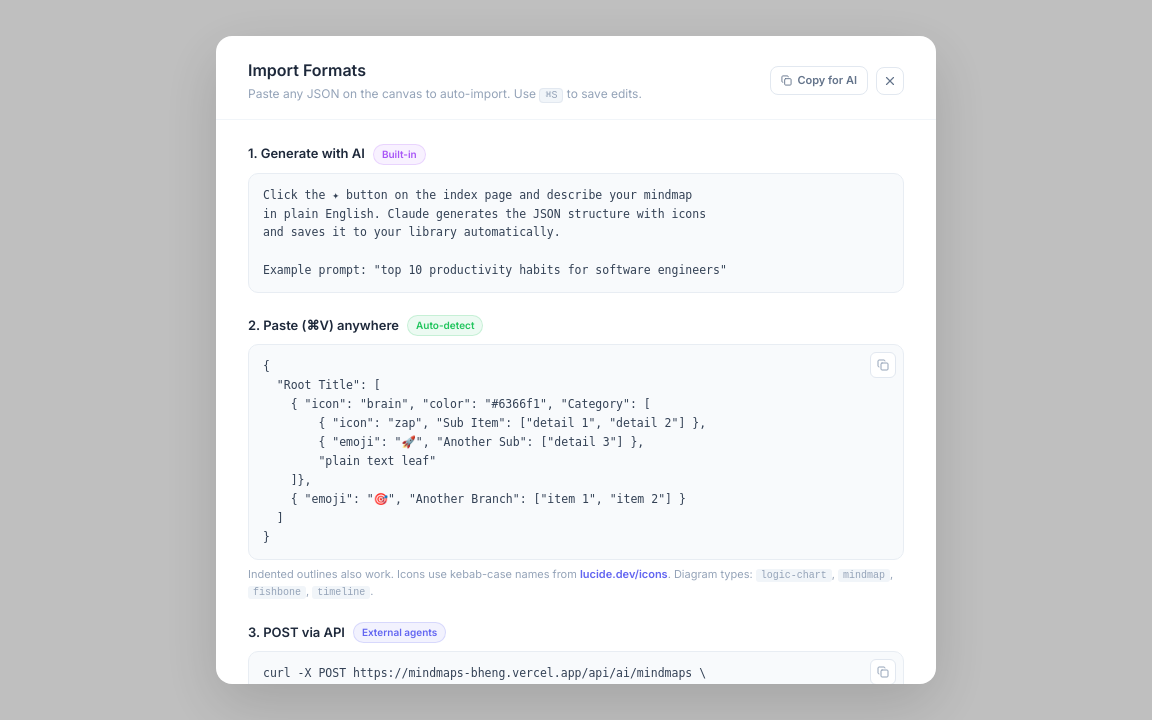
Test: ImportModal › copyAll falls back to execCommand when clipboard rejects
What coordinates should you click on to do the following:
click the button titled "Copy all instructions for AI"
I would click on:
 (819, 81)
Its box is [770,66,868,95].
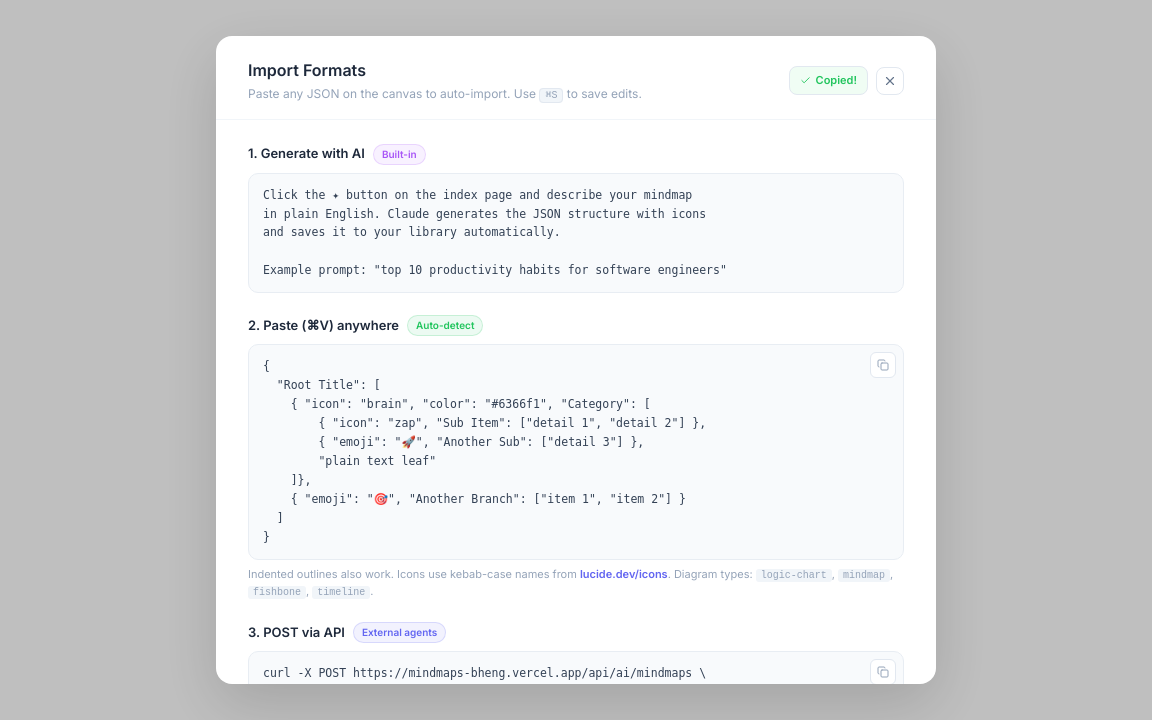
Expected: the button "Copied!" is shown, [788,66,868,95]
